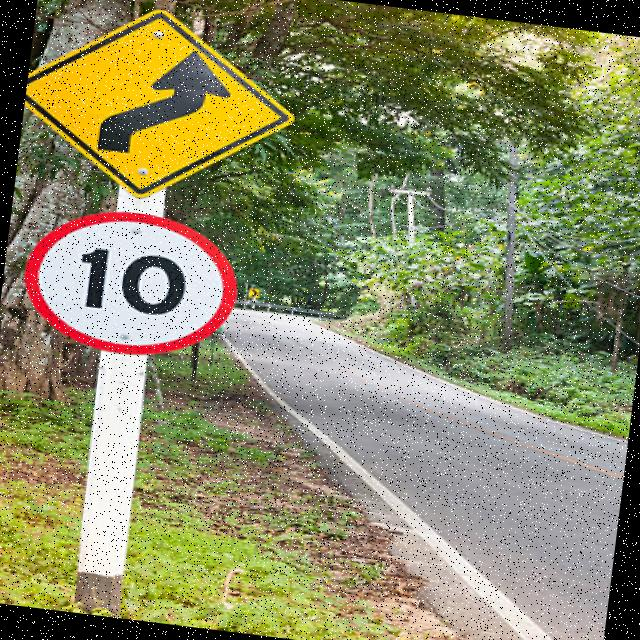left_sharp_curve: (15, 0, 326, 215)
